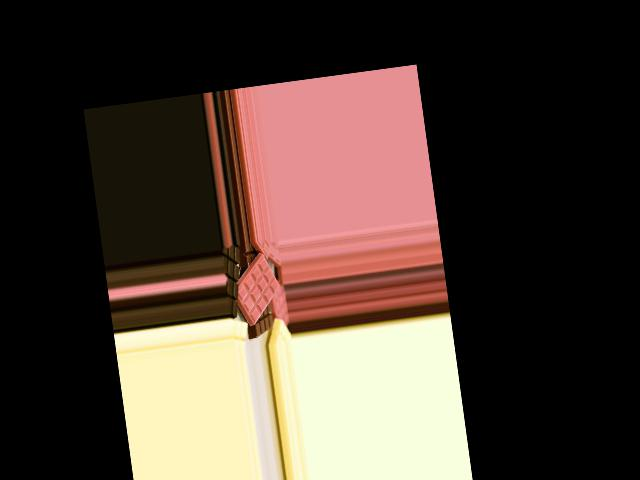chocolate: (221, 250, 286, 327)
